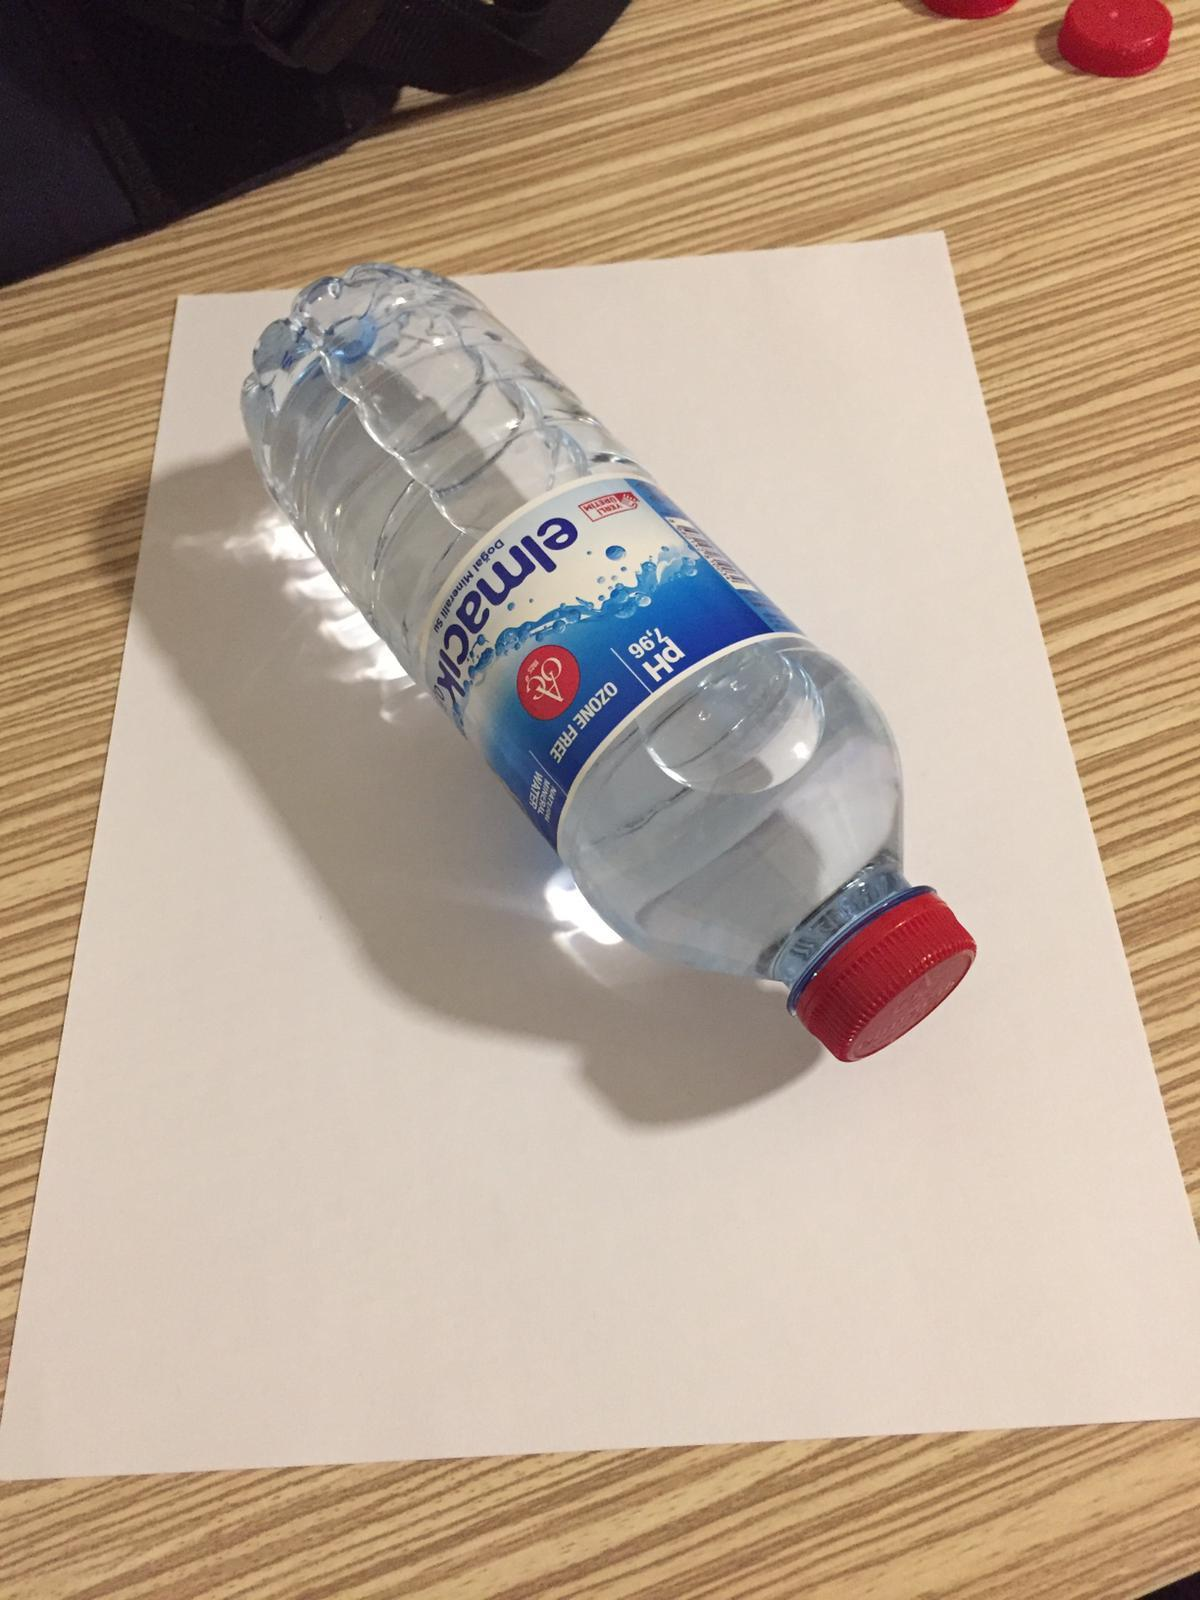bottle: (231, 264, 983, 1070)
